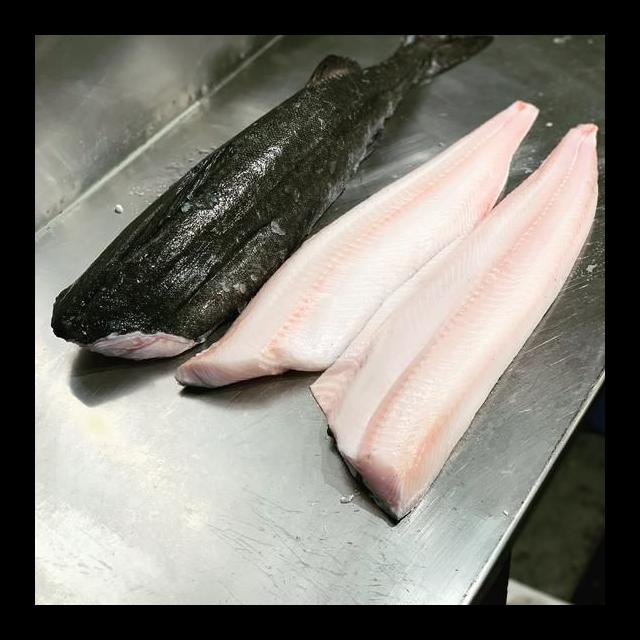fish: (297, 122, 605, 535)
